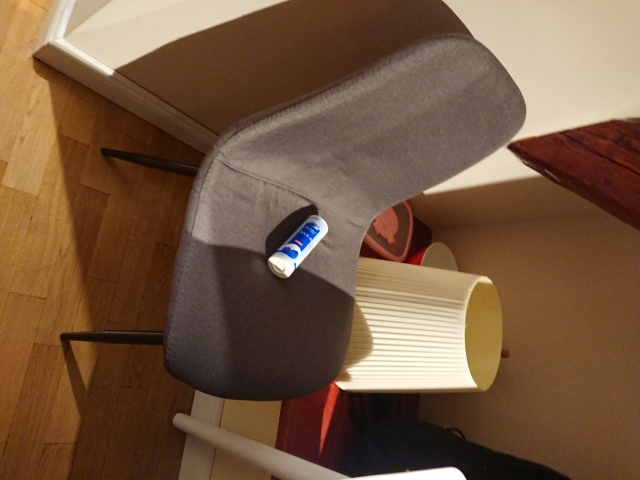Solana Pag Fine Sea Salt 250g: (264, 211, 331, 283)
